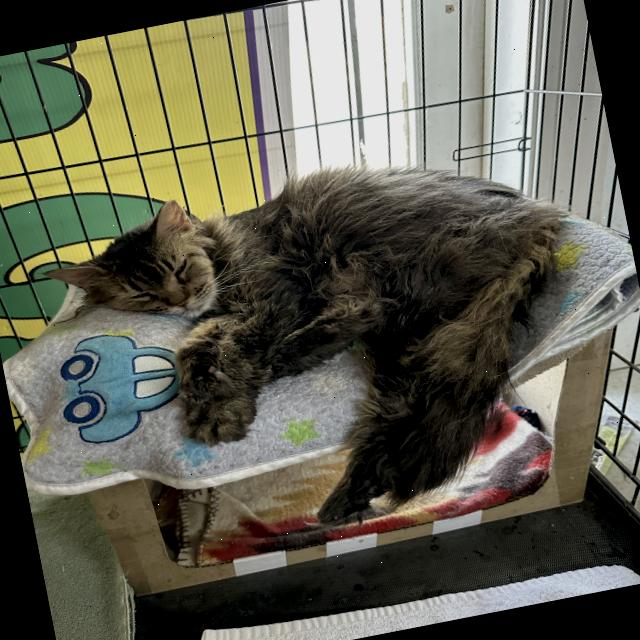maine_coon_cat: (28, 182, 256, 352)
